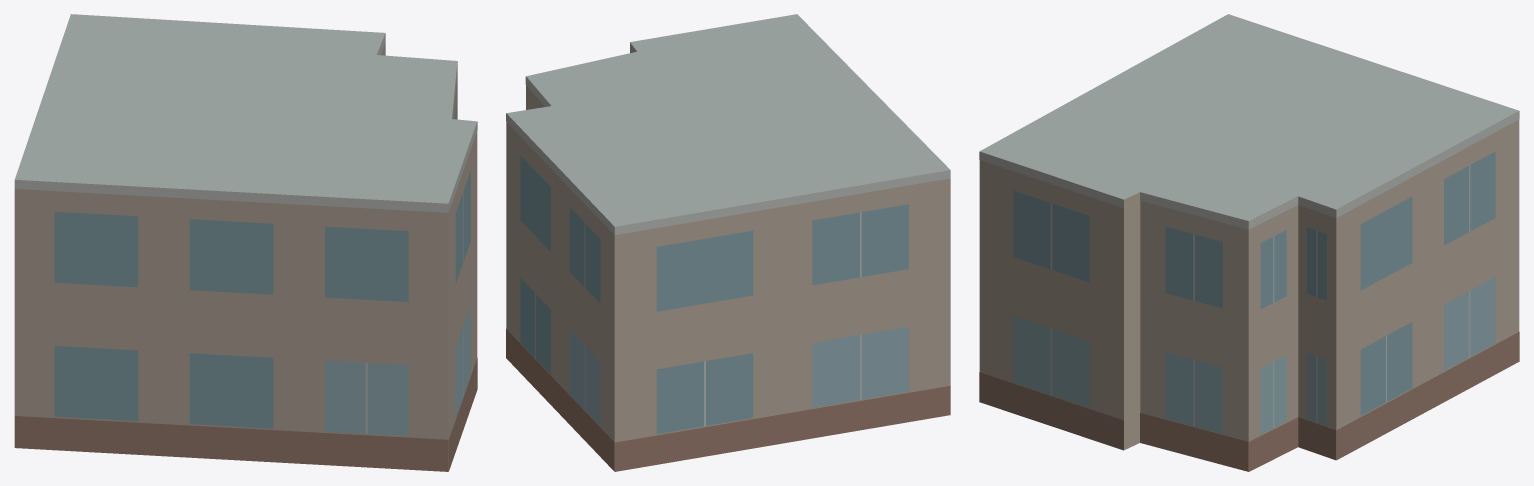
File: survey-upis-32628073.glb
3 renders of one model, left to right at view 1: azimuth 30°, elevation 25°; view 2: azimuth 150°, elevation 25°; view 3: azimuth 270°, elevation 25°, orthographic. The views are drawn at different scales.
Visible parts, largest first — view 1: survey-upis-32628073.tmp; view 2: survey-upis-32628073.tmp; view 3: survey-upis-32628073.tmp.
Boxes of the visible parts, x1,y1,x2,y2 form: survey-upis-32628073.tmp: (14, 14, 477, 471); survey-upis-32628073.tmp: (506, 14, 950, 471); survey-upis-32628073.tmp: (979, 14, 1519, 471).
Bounding box in the file's own units: 12.76 × 7.2 × 14.06.
